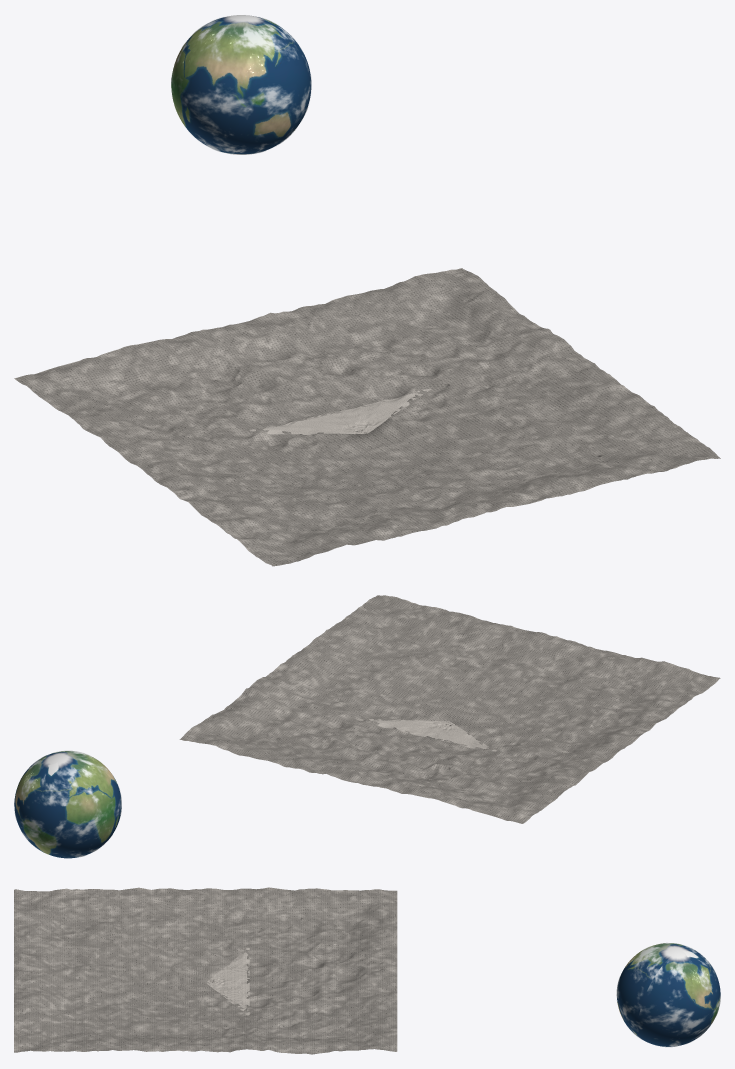
File: moon-environment-tablet.glb
3 views of the same model, one above another, from view 1: azimuth 30°, elevation 25°; view 2: azimuth 150°, elevation 25°; view 3: azimuth 270°, elevation 25° (orthographic). The views are drawn at different scales.
Parts seen in each view (by area): view 1: Lunar_Mountains_Far, Earth_Globe, Earth_CloudLayer, Lunar_Terrain_Near; view 2: Lunar_Mountains_Far, Earth_Globe, Earth_CloudLayer, Lunar_Terrain_Near; view 3: Lunar_Mountains_Far, Earth_Globe, Earth_CloudLayer, Lunar_Terrain_Near.
Boxes of the visible parts, x1,y1,x2,y2 form: Lunar_Mountains_Far: (14, 268, 720, 566); Earth_Globe: (171, 15, 311, 154); Earth_CloudLayer: (171, 17, 311, 153); Lunar_Terrain_Near: (249, 388, 431, 434); Lunar_Mountains_Far: (179, 595, 720, 823); Earth_Globe: (14, 751, 121, 858); Earth_CloudLayer: (14, 750, 121, 858); Lunar_Terrain_Near: (356, 719, 496, 751); Lunar_Mountains_Far: (14, 887, 397, 1054); Earth_Globe: (617, 943, 720, 1046); Earth_CloudLayer: (616, 942, 720, 1047); Lunar_Terrain_Near: (206, 948, 249, 1015).
Bounding box in the file's own units: 7358 × 2117 × 12895.
Materials: 6 (3 with a texture image).
